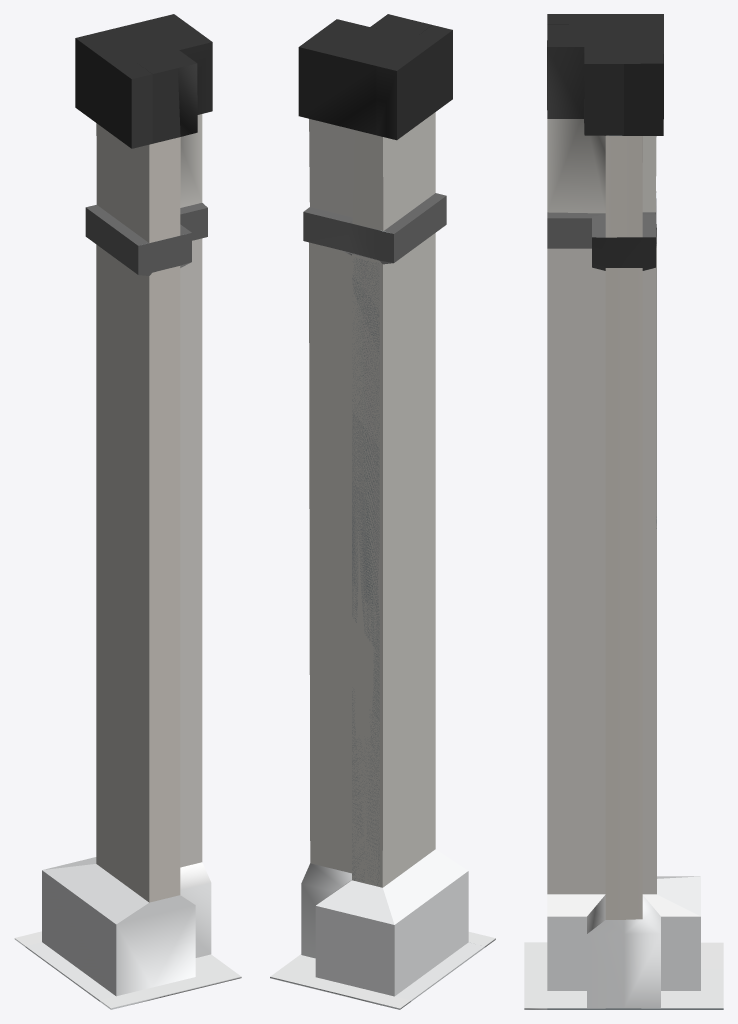
The model's file is Forsure.fbx.
3 views of the same model, side by side, from view 1: azimuth 30°, elevation 25°; view 2: azimuth 150°, elevation 25°; view 3: azimuth 270°, elevation 25° (orthographic). The views are drawn at different scales.
Parts seen in each view (by area): view 1: corner; view 2: corner; view 3: corner.
Boxes of the visible parts, box(x1,y1,x2,y2) form: corner: box(14, 14, 241, 1009); corner: box(270, 14, 495, 1009); corner: box(524, 14, 723, 1009).
Bounding box in the file's own units: 1.35 × 1.72 × 9.
